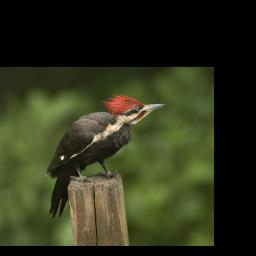Woodpecker: (36, 89, 169, 221)
